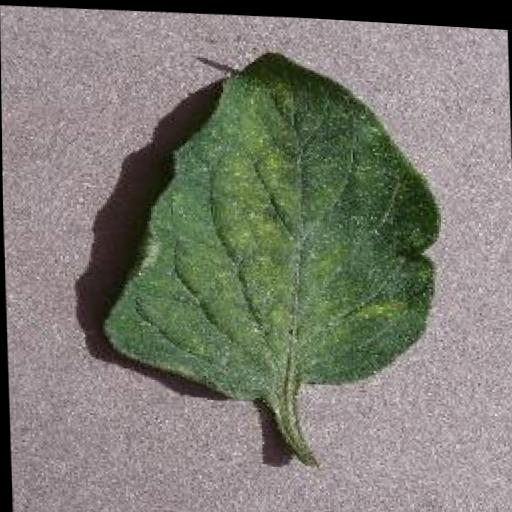Spider Mites: (91, 36, 445, 412)
